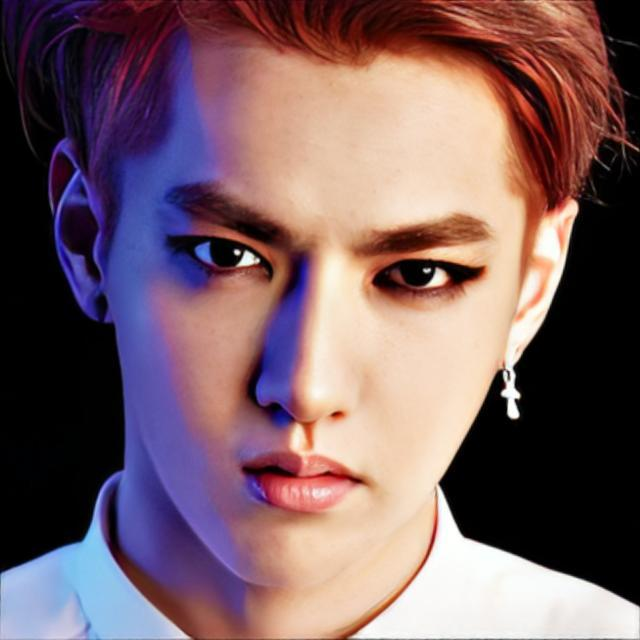anger: (112, 31, 520, 588)
